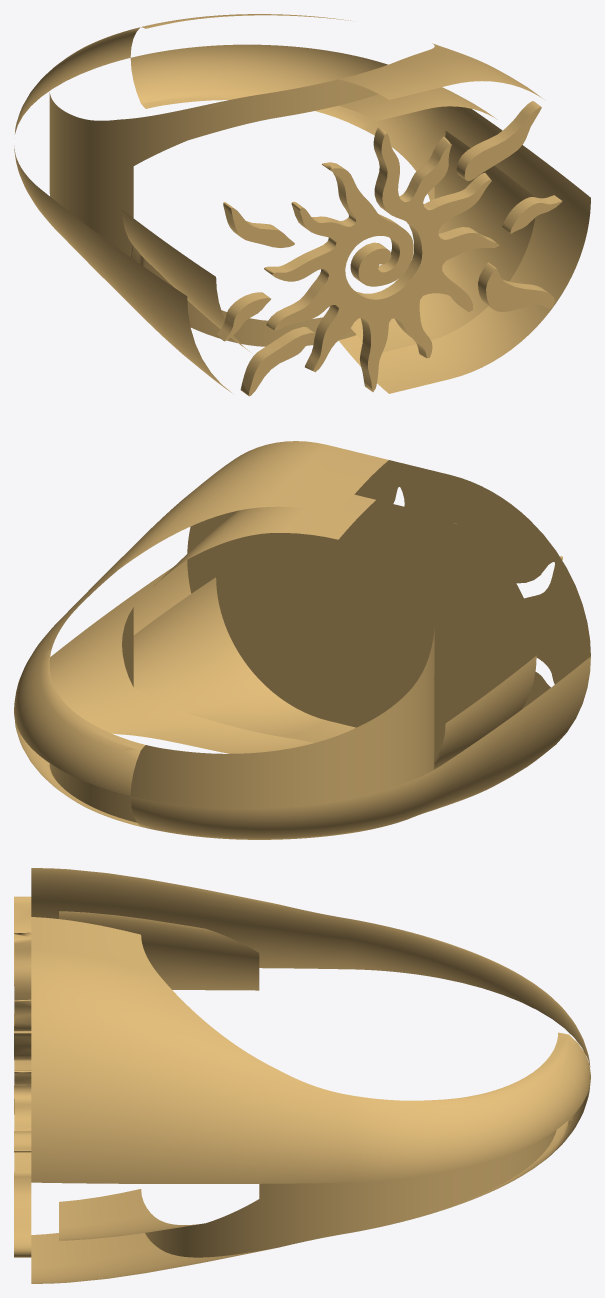
File: ringaurea.glb
3 views of the same model, one above another, from view 1: azimuth 30°, elevation 25°; view 2: azimuth 150°, elevation 25°; view 3: azimuth 270°, elevation 25° (orthographic). The views are drawn at different scales.
Visible parts, largest first — view 1: Ring; view 2: Ring; view 3: Ring.
Boxes of the visible parts, left/top/right/bottom form: Ring: left=14, top=14, right=590, bottom=396; Ring: left=14, top=441, right=590, bottom=839; Ring: left=14, top=868, right=590, bottom=1283.
Size of the model in its own units: 23.32 by 16 by 26.29.
